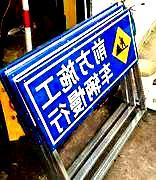sign: (29, 16, 136, 142)
